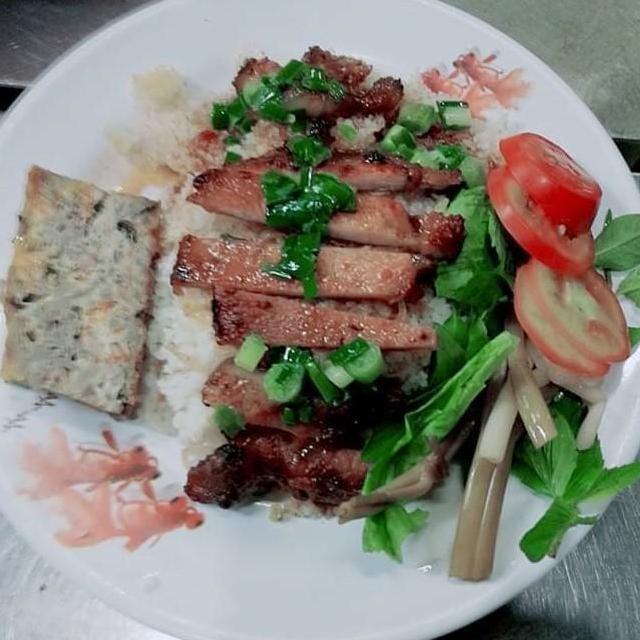cha: (0, 160, 169, 424)
com: (113, 59, 291, 483)
com suon cha: (0, 28, 638, 586)
dua chua: (438, 316, 613, 586)
suon: (180, 352, 453, 520), (180, 144, 471, 270), (168, 232, 442, 354), (227, 46, 410, 162)
